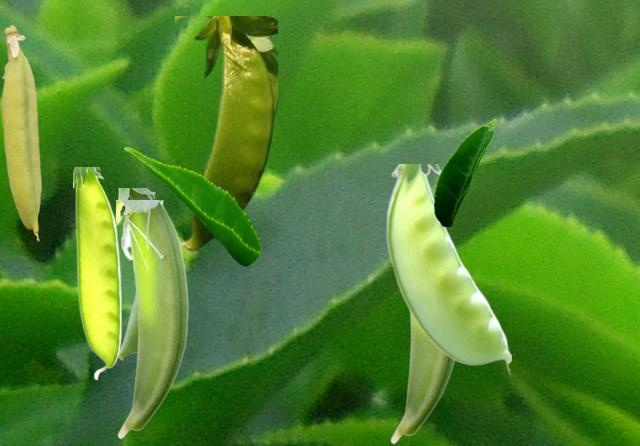pea: (385, 164, 510, 376), (175, 16, 276, 250), (116, 200, 190, 438), (73, 167, 120, 379), (1, 24, 41, 240), (390, 313, 455, 443), (118, 188, 155, 359)
